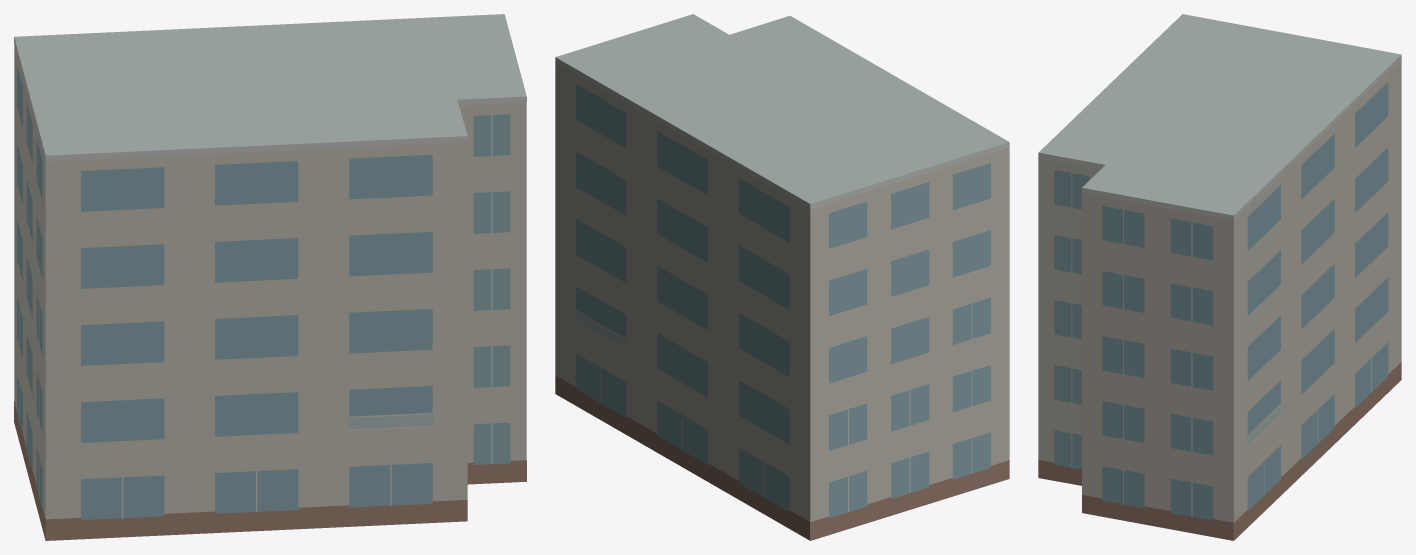
File: survey-upis-32526525.glb
3 renders of one model, left to right at view 1: azimuth 30°, elevation 25°; view 2: azimuth 150°, elevation 25°; view 3: azimuth 270°, elevation 25°, orthographic. The views are drawn at different scales.
Visible parts, largest first — view 1: survey-upis-32526525.tmp; view 2: survey-upis-32526525.tmp; view 3: survey-upis-32526525.tmp.
Part boxes in pixels (box(x1,y1,x2,y2)): survey-upis-32526525.tmp: box(14, 14, 526, 540); survey-upis-32526525.tmp: box(555, 14, 1009, 540); survey-upis-32526525.tmp: box(1038, 14, 1401, 540).
Bounding box in the file's own units: 20.28 × 15.25 × 15.45.
